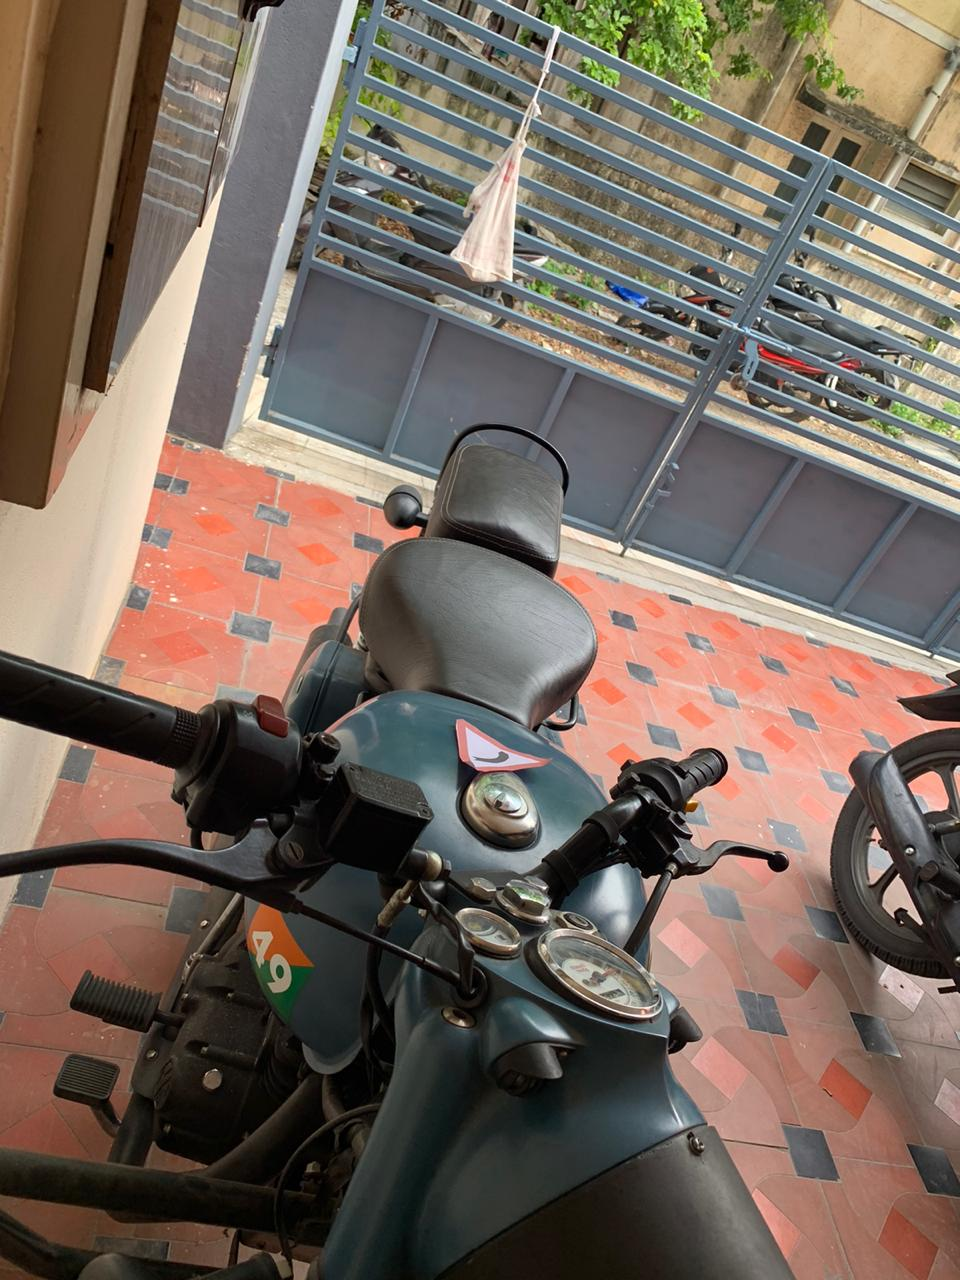LEFT CURVE: (429, 699, 556, 794)
